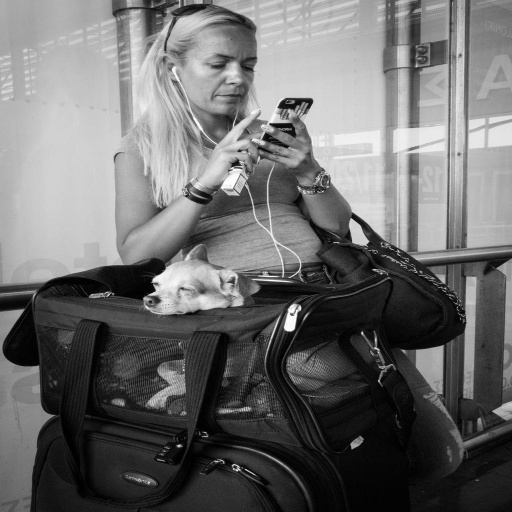hand: (248, 106, 334, 190), (197, 106, 261, 186)
